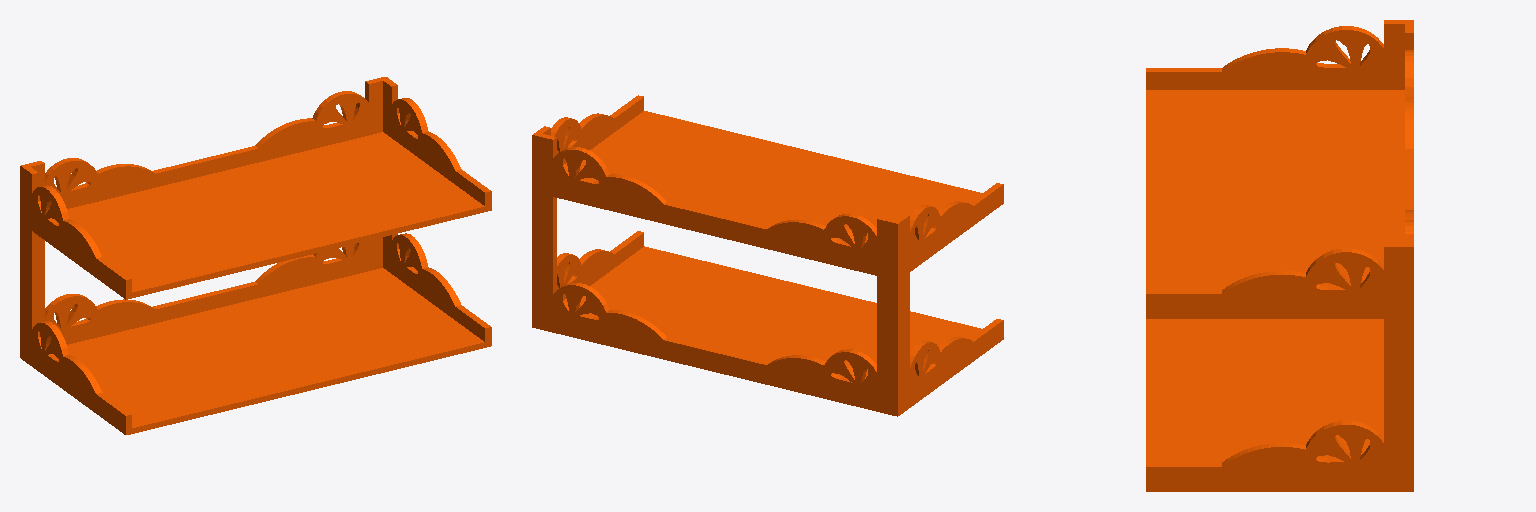
robot.urdf — 2Shelves_df03b94777b1f0f9e4e3c2d62691be9:
<?xml version="1.0" ?>
<robot name="2Shelves_df03b94777b1f0f9e4e3c2d62691be9">
   <material name="obj_color">
      <color rgba="1.0 0.423529411765 0.0392156862745 1.0"/>
   </material>
   <link name="top">
      <inertial>
         <origin rpy="9.626595887583362e-05 0.0002477328849244316 0.0002599944009029739" xyz="8.100000000000044e-05 -0.005061323926523072 0.001850116828791135"/>
         <mass value="0.2387298335006748"/>
         <inertia ixx="9.626595887583362e-05" ixy="-4.534500720439129e-21" ixz="-5.129812267535886e-22" iyy="0.0002510859485627334" iyz="-5.465400956526967e-06" izz="0.0002566413372646721"/>
      </inertial>
      <visual>
         <origin rpy="0 0 0" xyz="0 0 0"/>
         <geometry>
            <mesh filename="top_watertight_tiny.stl" scale="1 1 1"/>
         </geometry>
         <material name="obj_color"/>
      </visual>
      <collision>
         <origin rpy="0 0 0" xyz="0 0 0"/>
         <geometry>
            <mesh filename="top_watertight_tiny.obj" scale="1 1 1"/>
         </geometry>
      </collision>
   </link>
   <link name="bottom">
      <inertial>
         <origin rpy="1.633333333199431e-08 1.633333333199431e-08 1.633333333362855e-08" xyz="0.3464080000000008 0.3464080000000008 0.3464080000000008"/>
         <mass value="0.0009800000000000017"/>
         <inertia ixx="1.633333333253906e-08" ixy="5.447480642029219e-19" ixz="5.447480642029219e-19" iyy="1.633333333253906e-08" iyz="5.447480642029219e-19" izz="1.633333333253906e-08"/>
      </inertial>
      <visual>
         <origin rpy="0 0 0" xyz="0 0 0"/>
         <geometry>
            <mesh filename="bottom_watertight_tiny.stl" scale="1 1 1"/>
         </geometry>
         <material name="obj_color"/>
      </visual>
   </link>
   <joint name="rotation" type="revolute">
      <origin xyz="0 0 0"/>
      <axis xyz="0 0 -1"/>
      <parent link="bottom"/>
      <child link="top"/>
      <dynamics damping="1.0" friction="1.0"/>
      <limit effort="0.1" velocity="0.1" lower="0" upper="0.001"/>
   </joint>
</robot>

--- Render facts (derived) ---
3 views of the same robot in one strip: view 1: azimuth 30°, elevation 25°; view 2: azimuth 150°, elevation 25°; view 3: azimuth 270°, elevation 25° (orthographic).
Model 2Shelves_df03b94777b1f0f9e4e3c2d62691be9 with 2 links and 1 joints (1 revolute), rooted at bottom, posed every joint at zero.
Visible links, largest first — view 1: top; view 2: top; view 3: top.
Link boxes in pixels (left/top/right/bottom): top: left=20, top=77, right=491, bottom=434; top: left=532, top=95, right=1003, bottom=416; top: left=1146, top=20, right=1413, bottom=491.
Bounding box of the posed robot: 0.1017 × 0.0508 × 0.0513 m (x, y, z).
1 mesh visuals loaded from 2 distinct referenced files (1 binary STL); not drawn: 1 (reference not matched to a file when rendering).
